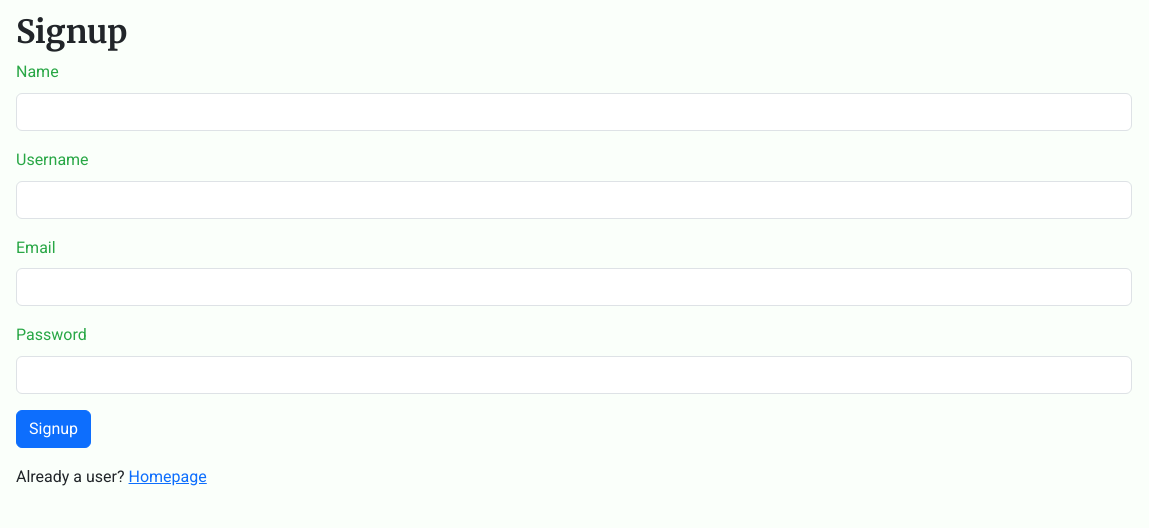
it: Signup Component › should display an error message
In the field labelled "Name": (574, 112) [16, 93, 1132, 131], type "Harry Potter"
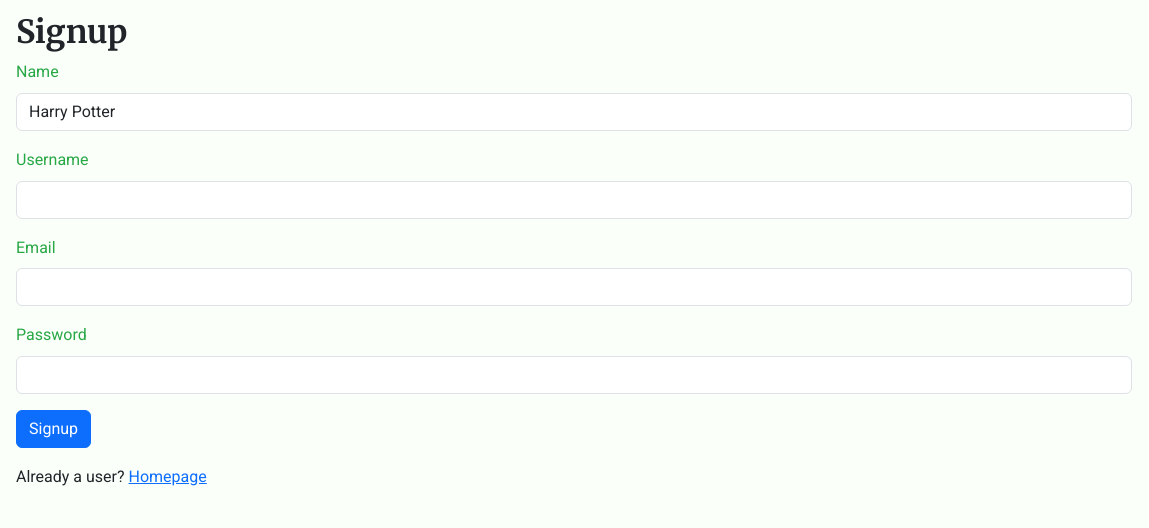
In the field labelled "Username": (574, 200) [16, 181, 1132, 219], type "harry"
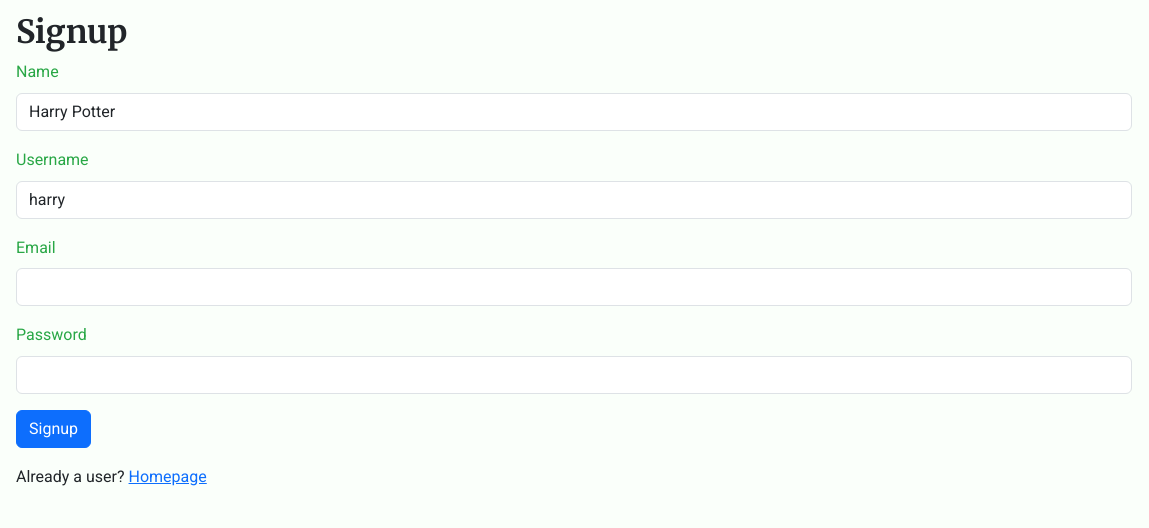
In the field labelled "Email": (574, 287) [16, 268, 1132, 306], type "hpotter@gmail.com"
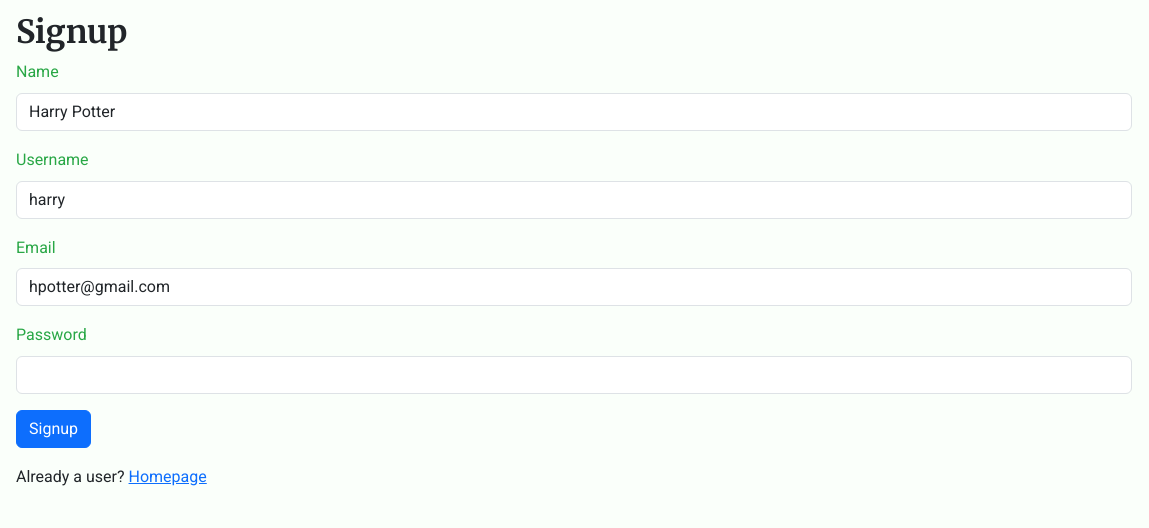
In the password field labelled "Password": (574, 375) [16, 356, 1132, 394], type "12345678"
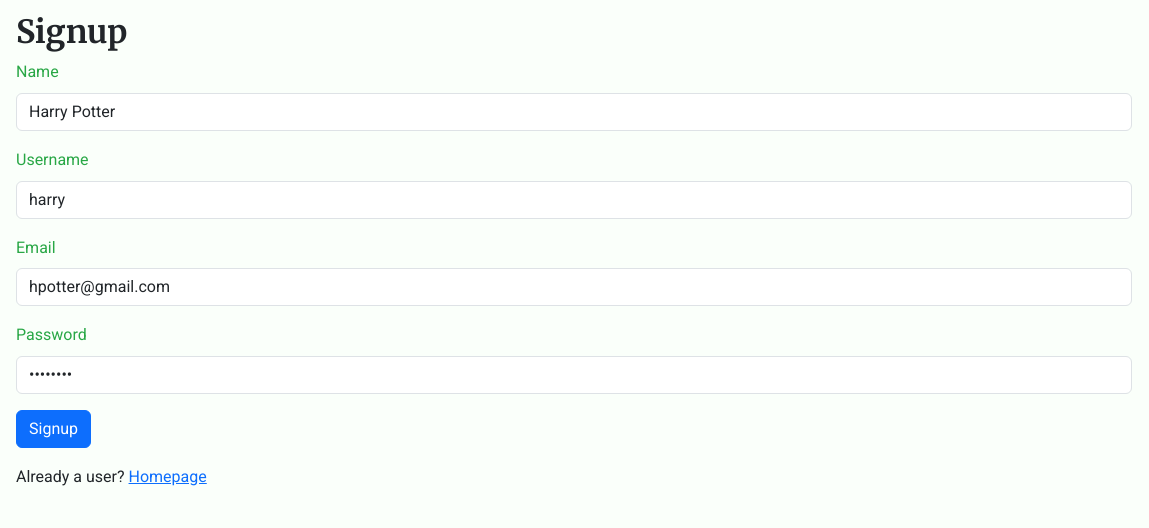
Click the button "Signup": (54, 429) [16, 410, 91, 448]
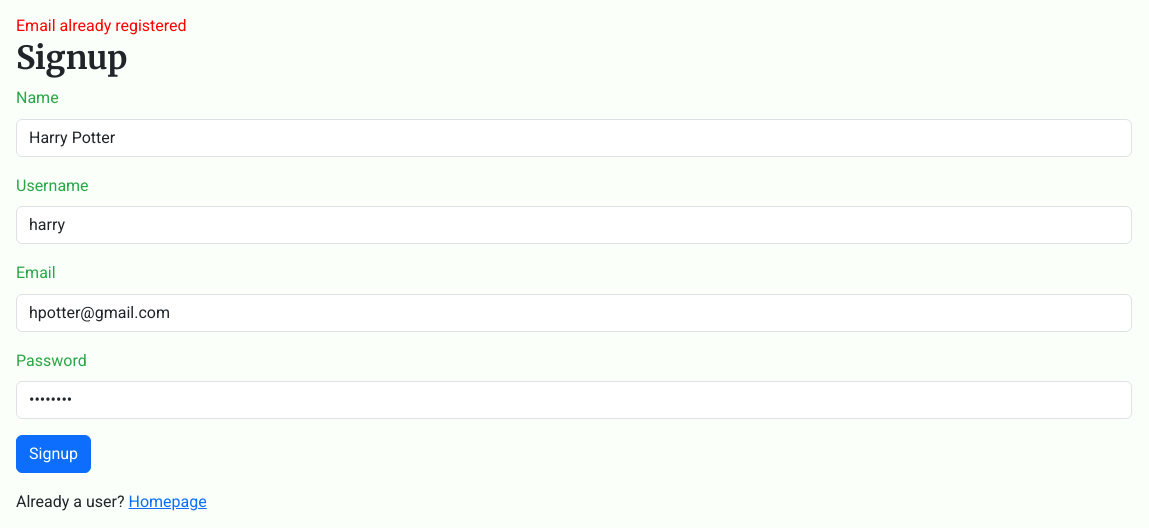
Check: the text "Email already registered" is shown, box [16, 16, 187, 35]
